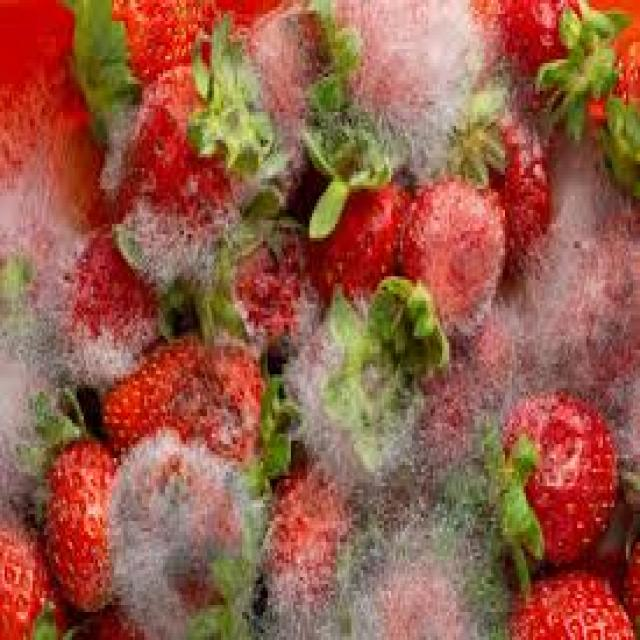Strawberries: (121, 100, 243, 294), (92, 369, 276, 480), (506, 403, 618, 561), (55, 239, 153, 385), (260, 480, 361, 621), (407, 193, 502, 337), (41, 459, 131, 607), (317, 175, 400, 297)
